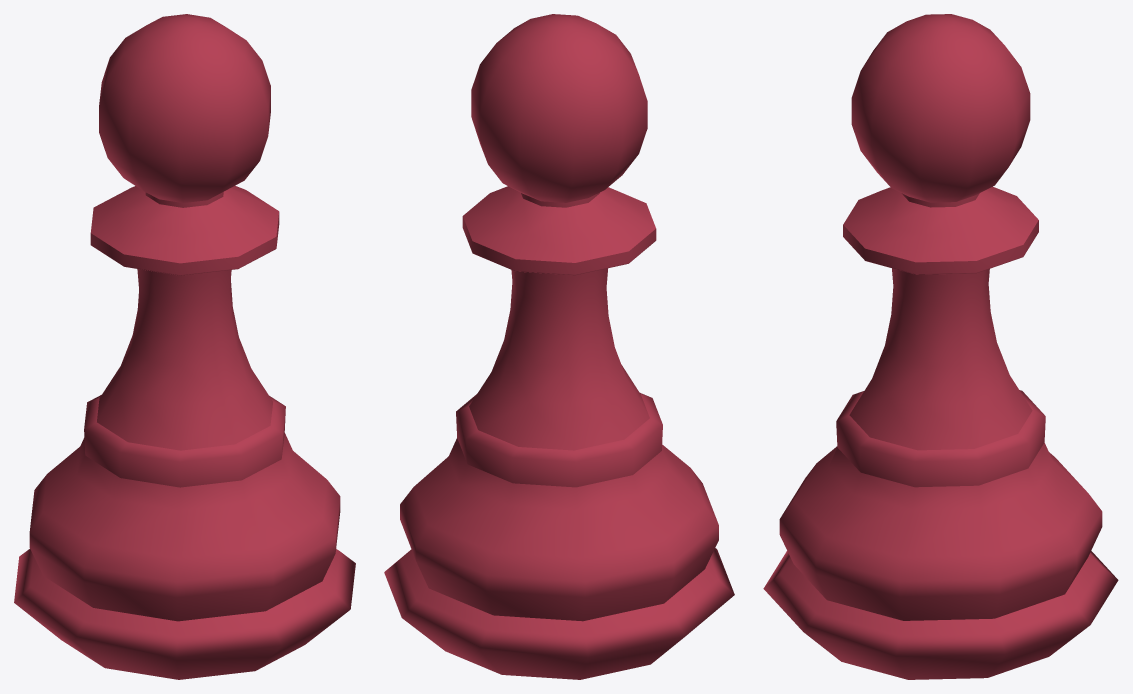
File: item-0-3.glb
3 views of the same model, side by side, from view 1: azimuth 30°, elevation 25°; view 2: azimuth 150°, elevation 25°; view 3: azimuth 270°, elevation 25° (orthographic).
Parts seen in each view (by area): view 1: BlackPawn; view 2: BlackPawn; view 3: BlackPawn.
Part boxes in pixels (left/top/right/bottom): BlackPawn: left=14, top=14, right=355, bottom=679; BlackPawn: left=384, top=14, right=734, bottom=679; BlackPawn: left=763, top=14, right=1118, bottom=679.
Size of the model in its own units: 0.0889 by 0.1731 by 0.0918.
